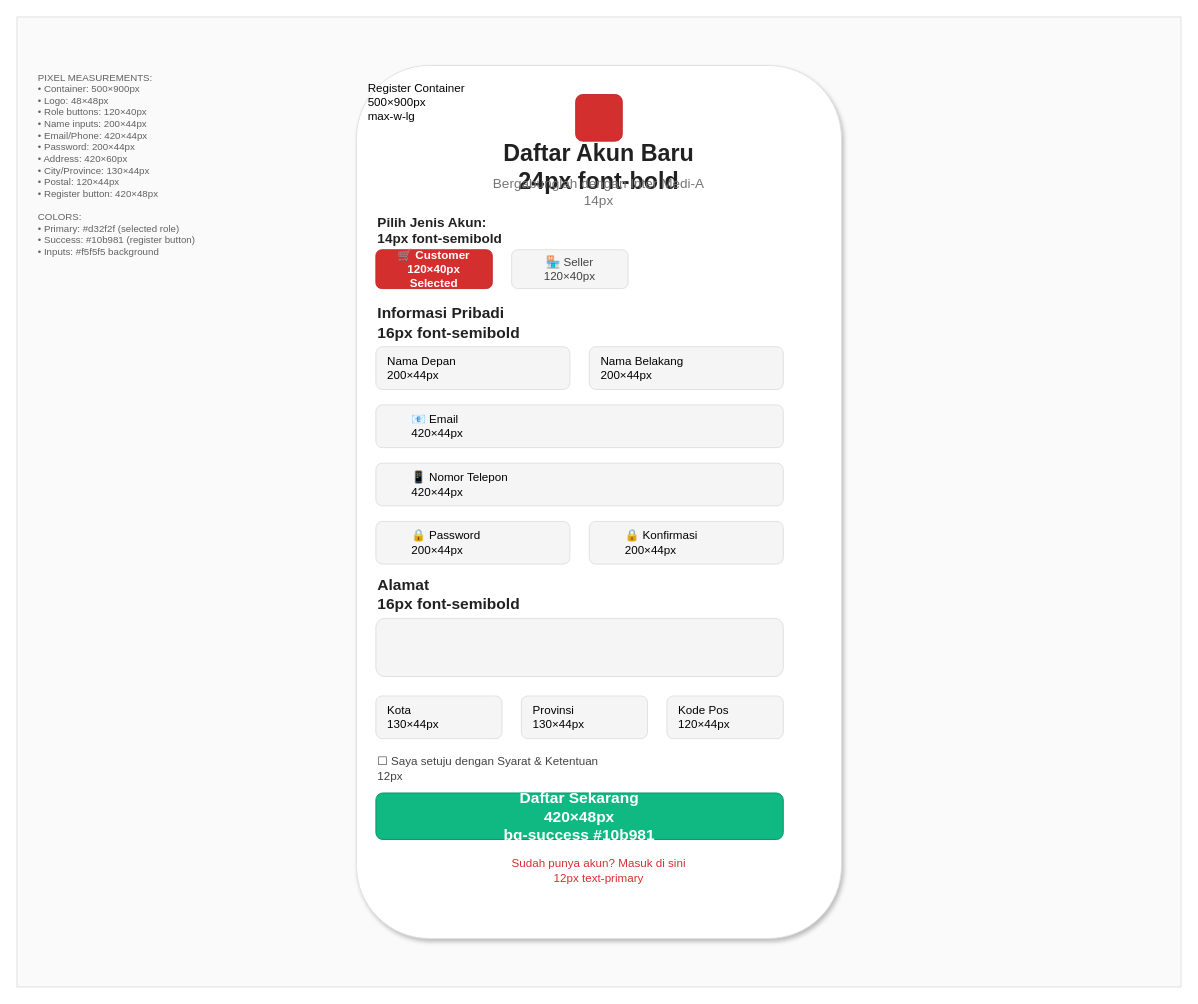
The diagram is 1198 pixels wide and 1004 high, and some of its shapes have lost their labels. The shapes that lost their labels are listed below. From the top down, each one's centre as x and y in pixels, then its label:
point 598,117: IM 48×48px
point 579,647: Alamat Lengkap 420×60px
